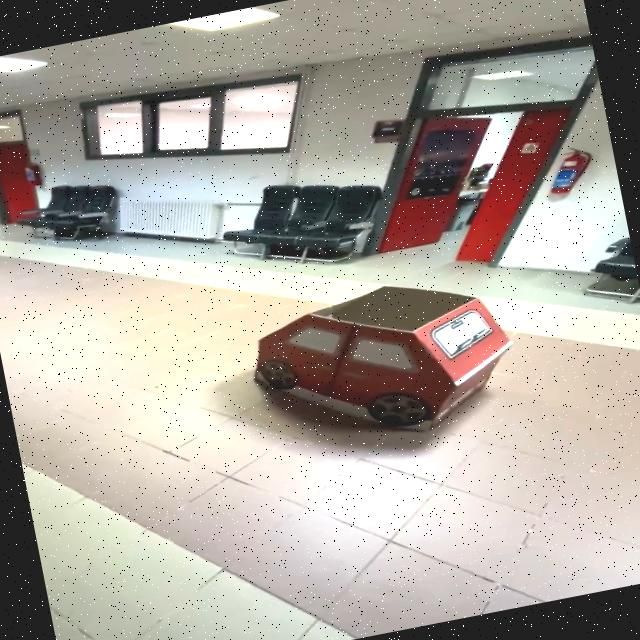red_car: (201, 255, 533, 485)
